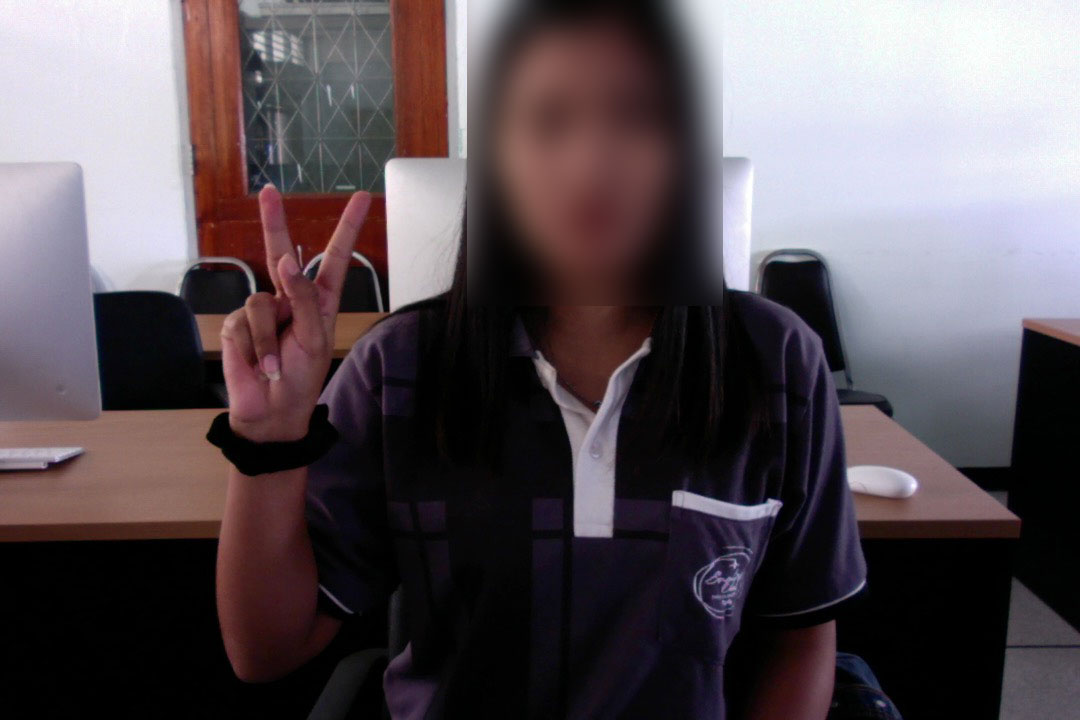ko: (213, 176, 378, 454)
